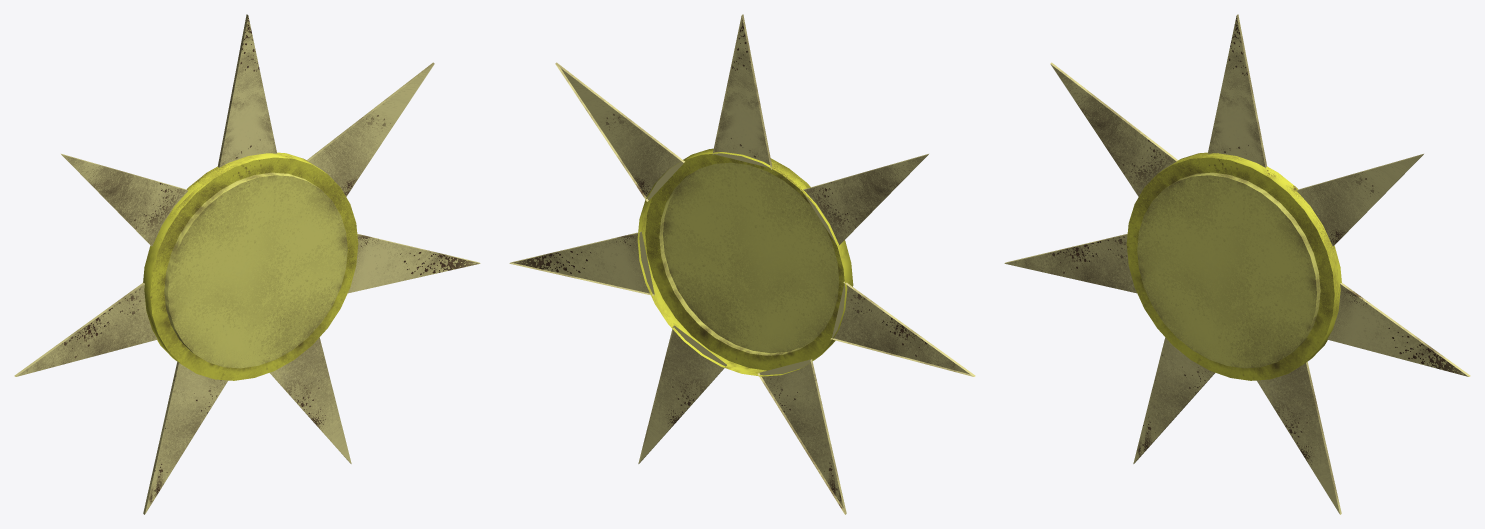
Rendered from Wall Sun.fbx.
3 renders of one model, left to right at view 1: azimuth 30°, elevation 25°; view 2: azimuth 150°, elevation 25°; view 3: azimuth 330°, elevation 25°, orthographic.
Visible parts, largest first — view 1: Wall Sun; view 2: Wall Sun; view 3: Wall Sun.
Part boxes in pixels (x1,y1,x2,y2): Wall Sun: [14, 14, 480, 514]; Wall Sun: [509, 14, 975, 514]; Wall Sun: [1004, 14, 1470, 514].
Bounding box in the file's own units: 447 × 436 × 18.92.
Materials: 1 (1 with a texture image).
